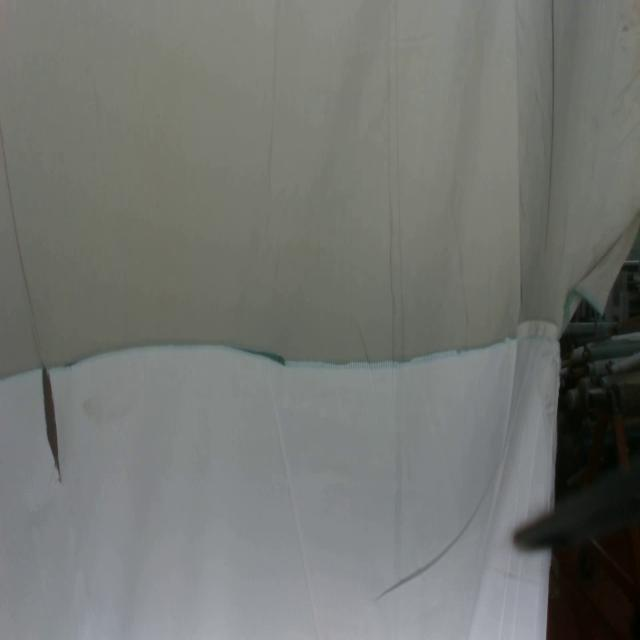crease: (374, 468, 492, 601), (270, 388, 321, 640), (386, 0, 407, 356), (0, 119, 34, 318), (542, 2, 557, 257), (267, 0, 281, 194)
hole: (40, 364, 64, 483)
